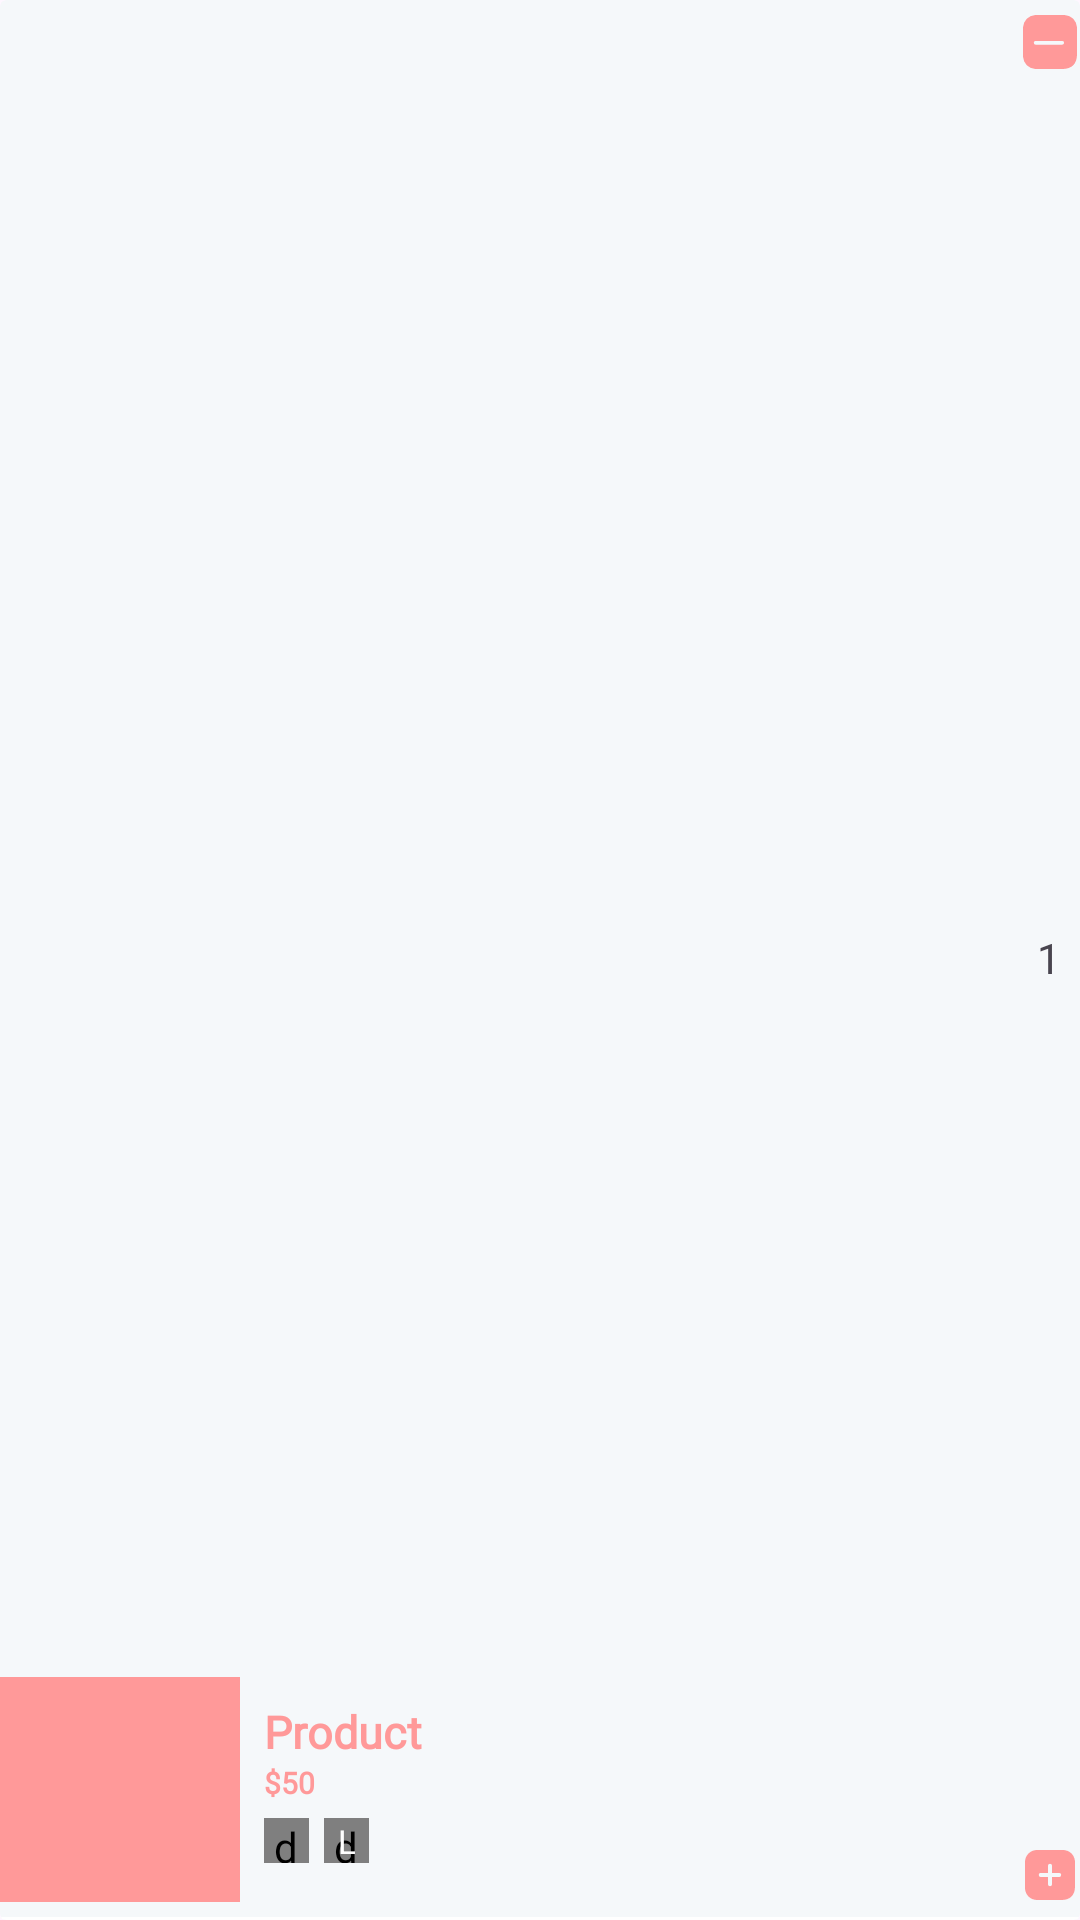

Named icons in this screenshot (1080*1920) and their bounding boxes, (x1, y1, x2, y2):
minus: (1023, 15, 1077, 69)
plus: (1025, 1850, 1075, 1900)
